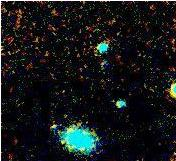star: (46, 127, 76, 157)
